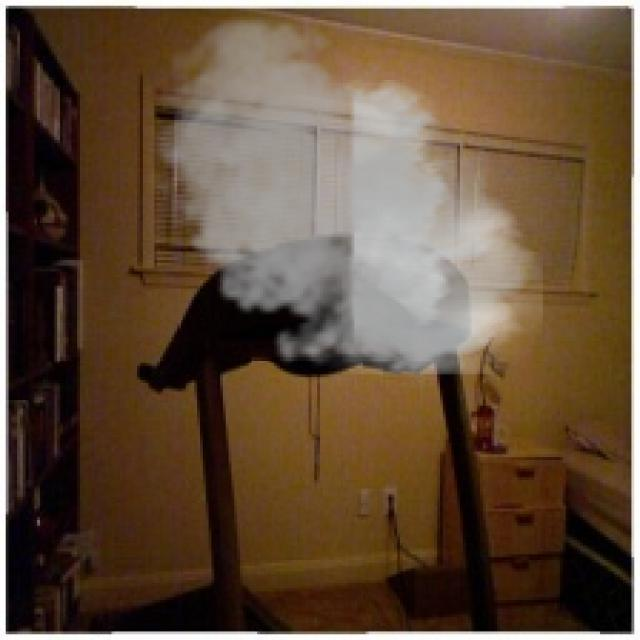Smoke: (140, 9, 543, 388)
